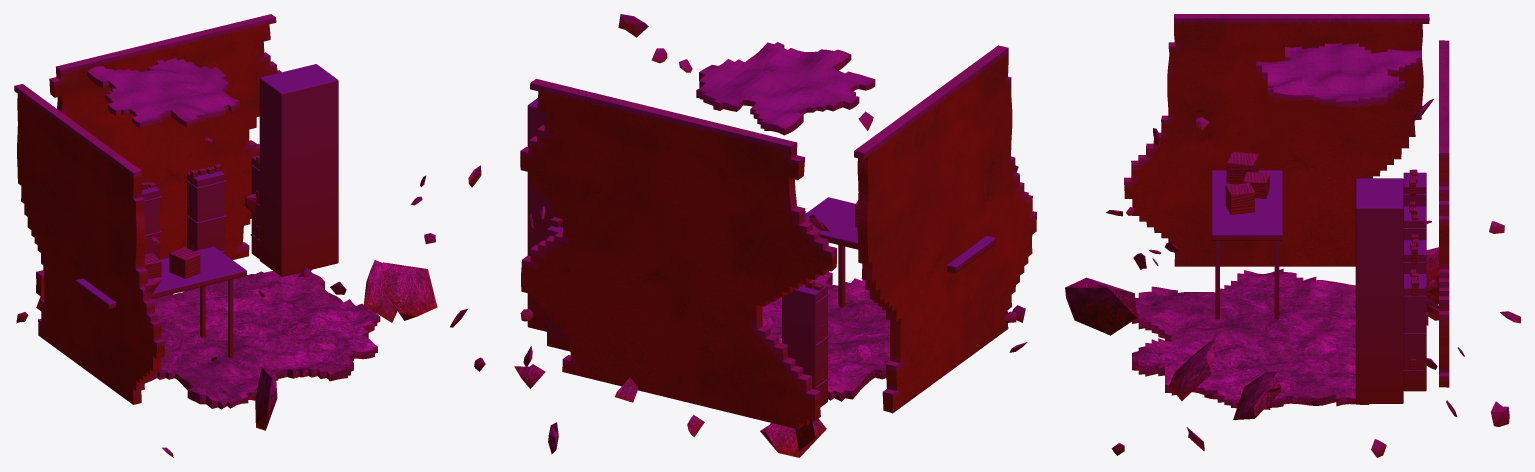
Rendered from chunk.glb.
The picture shows the model from 3 angles, left to right: view 1: azimuth 30°, elevation 25°; view 2: azimuth 150°, elevation 25°; view 3: azimuth 270°, elevation 25°; orthographic projection. The views are drawn at different scales.
Bounding box in the file's own units: 4470 × 2890 × 3993.
4 materials, 3 textured.
